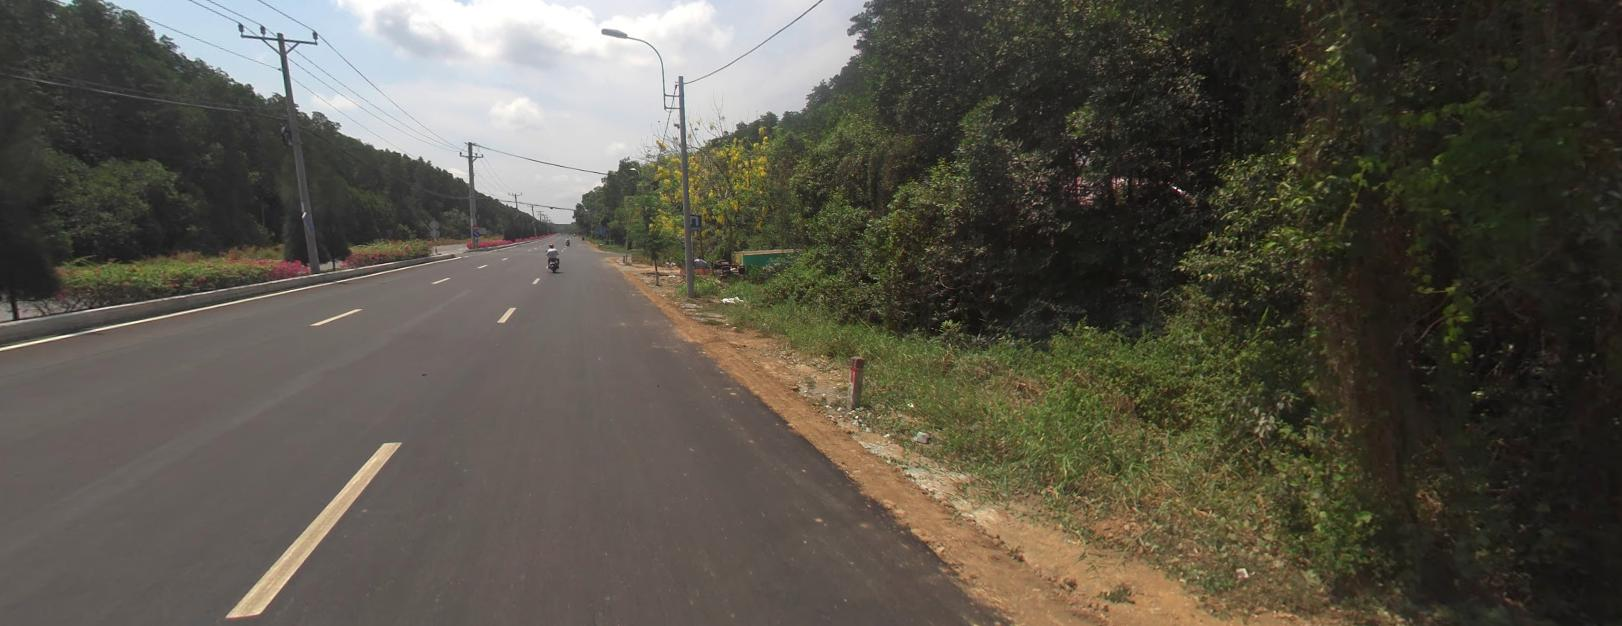Cam nguoc chieu: (472, 223, 477, 229)
Hieu lenh: (473, 230, 479, 235)
